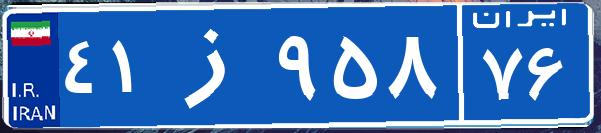1: (110, 28, 158, 105)
4: (57, 26, 110, 107)
5: (330, 28, 385, 110)
6: (525, 38, 570, 115)
7: (475, 38, 525, 113)
8: (385, 28, 445, 110)
9: (273, 28, 330, 110)
ز: (158, 15, 273, 115)
